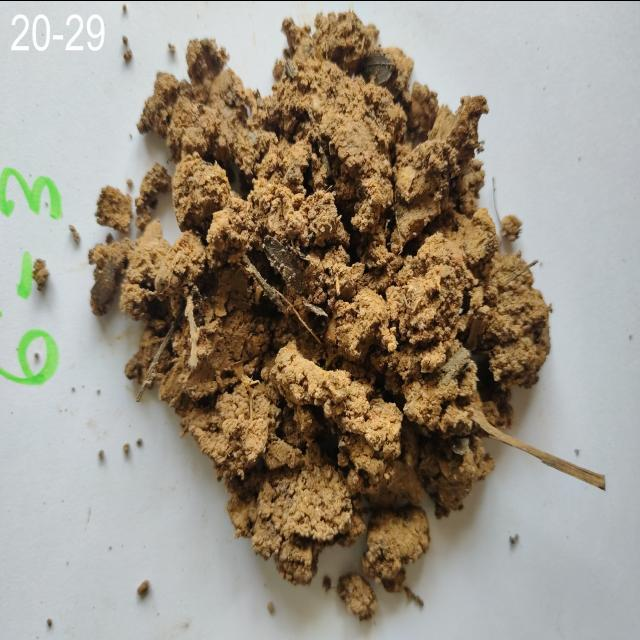soil: (192, 154, 464, 420)
